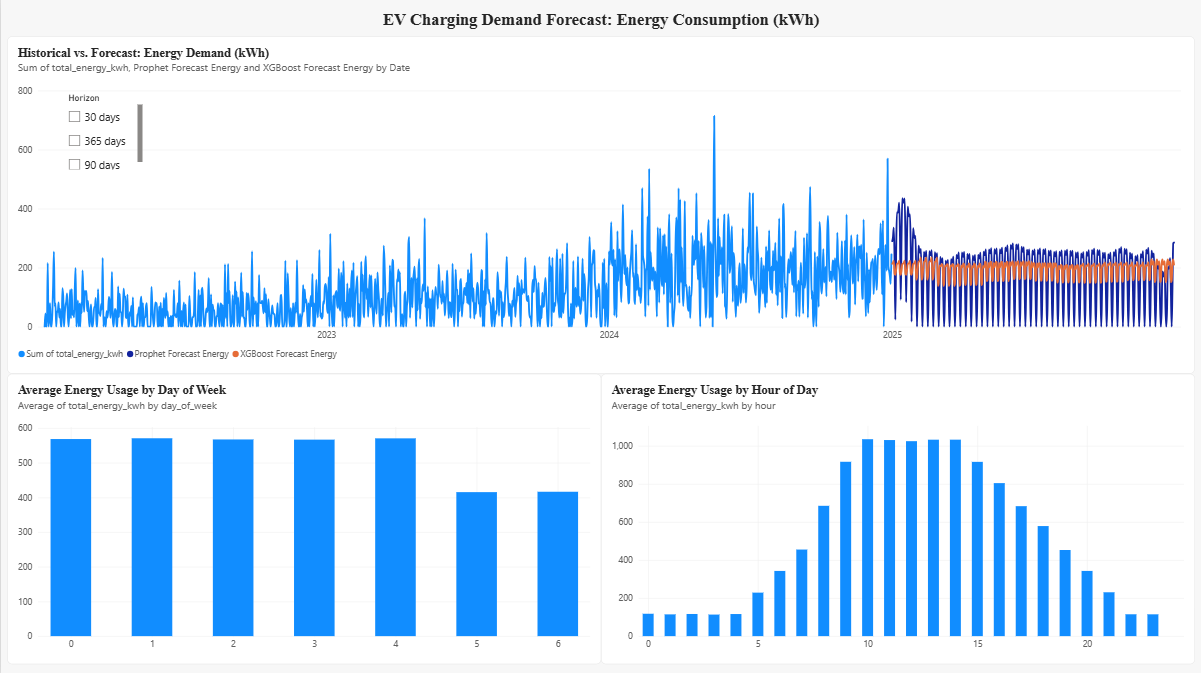

The dashboard page shown, as its layout file describes it:
{"tool":"powerbi","page":{"name":"Energy Consumption (kWh)","canvas":[1920,1080],"ordinal":1},"visuals":[{"type":"slicer","fields":{"Values":["forecast_all.Horizon"]},"box":[136,160,126.7,123.3],"z":0},{"type":"textbox","box":[10,15,1900,43.3],"z":1000},{"type":"lineChart","title":"Historical vs. Forecast: Energy Demand (kWh)","fields":{"Category":["DateTable.Date"],"Y":["Sum(hourly_demand.total_energy_kwh)","forecast_all.Prophet Forecast Energy","forecast_all.XGBoost Forecast Energy"]},"box":[10,58,1900,540],"z":2000},{"type":"clusteredColumnChart","title":"Average Energy Usage by Day of Week","fields":{"Category":["hourly_demand.day_of_week"],"Y":["Avg(hourly_demand.total_energy_kwh)"]},"box":[10,597.5,950,465],"z":3000},{"type":"clusteredColumnChart","title":"Average Energy Usage by Hour of Day","fields":{"Category":["hourly_demand.hour"],"Y":["Avg(hourly_demand.total_energy_kwh)"]},"box":[960,597.5,950,465],"z":4000},{"type":"slicer","fields":{"Values":["forecast_all.Horizon"]},"box":[100,148.3,126.7,123.3],"z":5000}]}

Visuals, with their boxes in screenshot pixels (x1, y1, x2, y2), scaled from the page's 1920x1080 canvas onto the 1201x673 screenshot:
slicer - forecast_all.Horizon: 85/100/164/177
textbox: 6/9/1195/36
"Historical vs. Forecast: Energy Demand (kWh)" lineChart: 6/36/1195/373
"Average Energy Usage by Day of Week" clusteredColumnChart: 6/372/600/662
"Average Energy Usage by Hour of Day" clusteredColumnChart: 600/372/1195/662
slicer - forecast_all.Horizon: 63/92/142/169
